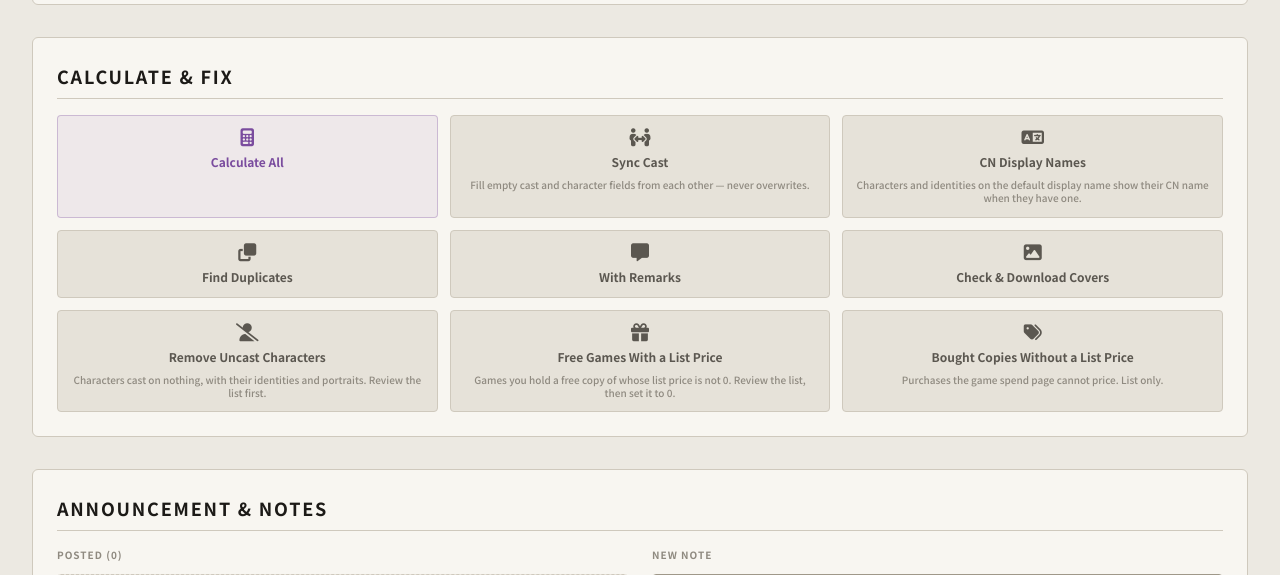
Control Center Bought Copies Without a List Price › lists the visible copies, each linked to its game
(page scrolled)
Click the button "Bought Copies Without a List Price" at (1033, 361), box [842,310,1223,412]
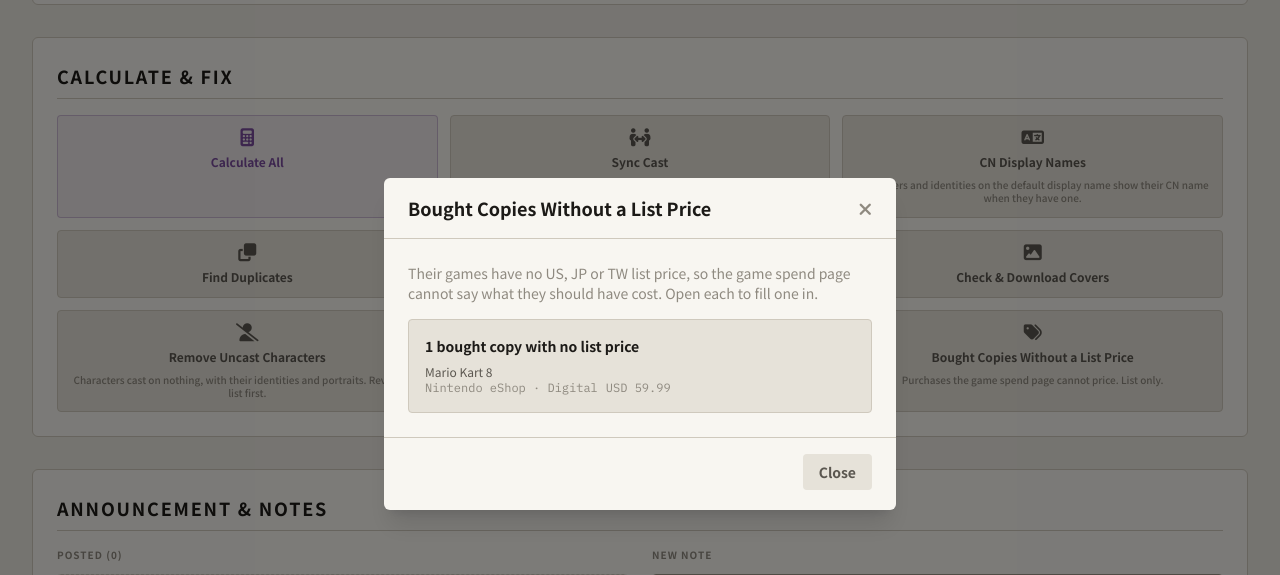
Expected: the text "Nintendo eShop · Digital" is shown, [425,380,598,396]
Expected: the text "USD 59.99" is shown, [606,380,671,396]
